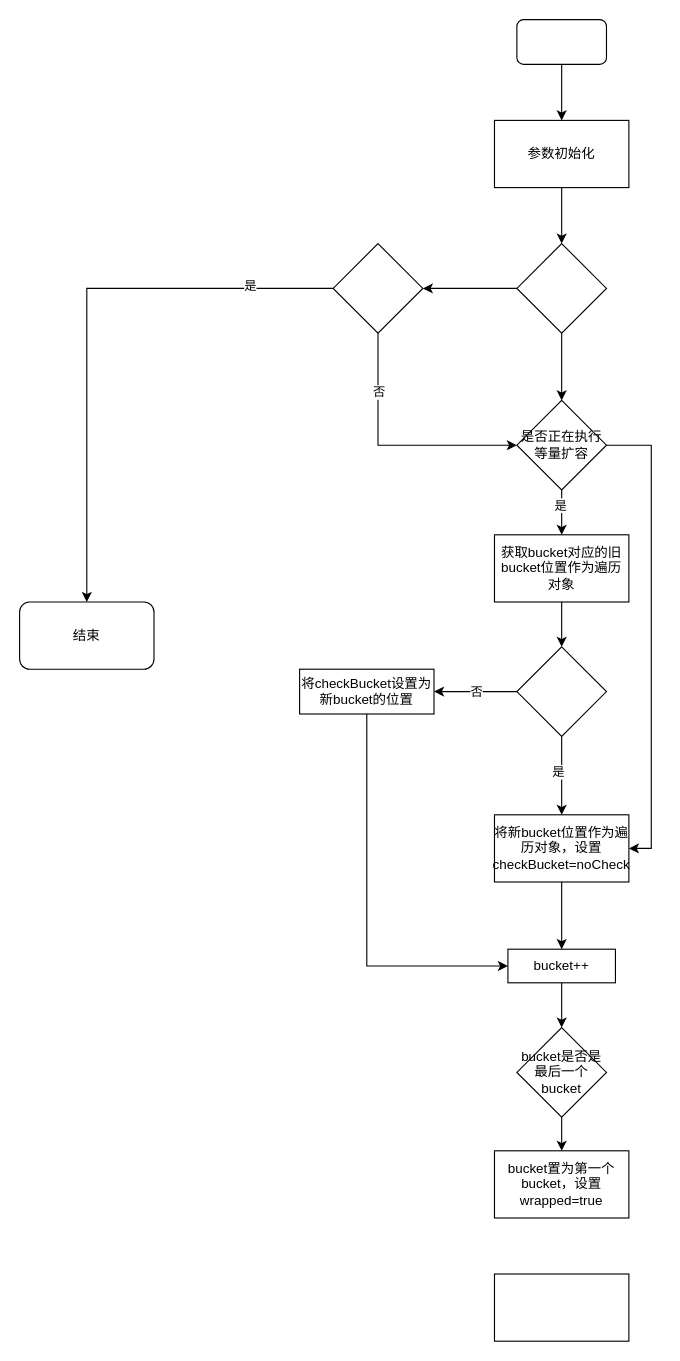
Image size: 680x1361. Some labels were removed from this diagram. Here are the shapes that lost their labels. From the top down, the centre of each, then its label:
At point 561,41: "开始".
At point 377,287: "当前bucket是否为起始bucket且已经从头开始遍历了".
At point 561,287: "当前bucket是否为空".
At point 561,691: "是否迁移完成".
